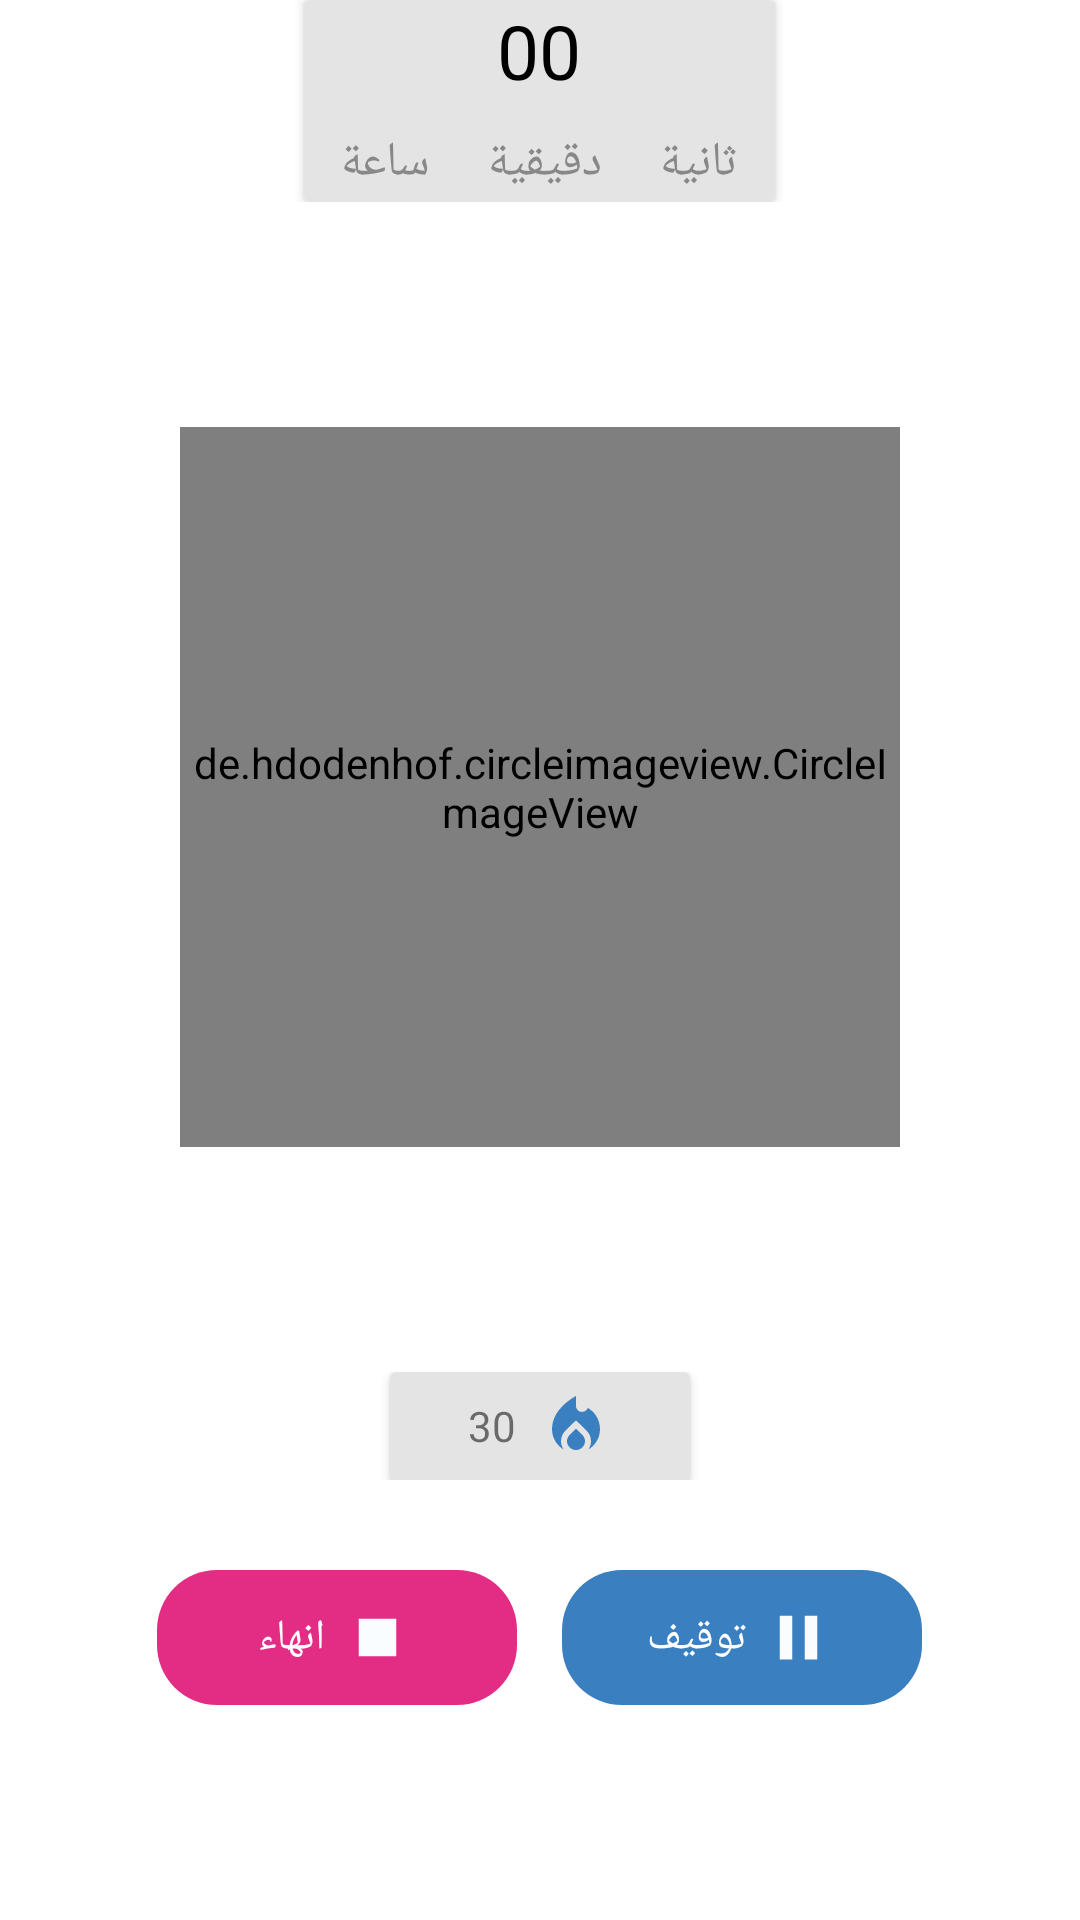

Named icons in this screenshot (1080 × 1920) and their bounding boxes, (x1, y1, x2, y2):
fire department: (552, 1396, 600, 1450)
pause: (779, 1615, 818, 1660)
stop: (358, 1618, 397, 1657)
